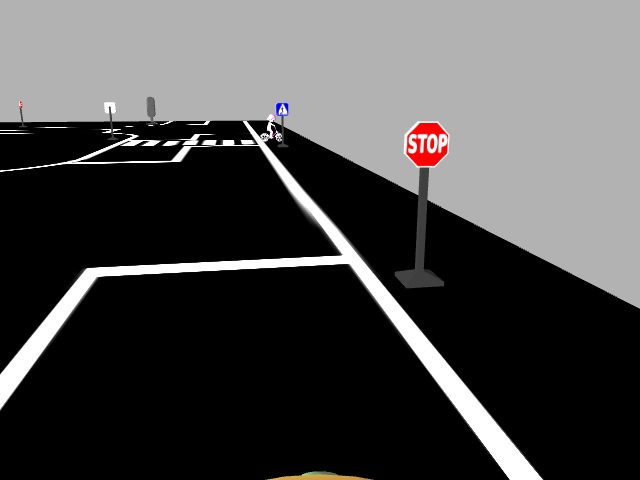Stop: (401, 118, 452, 168)
